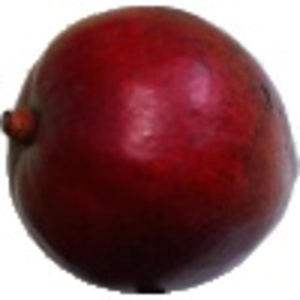manga: (1, 5, 300, 294)
